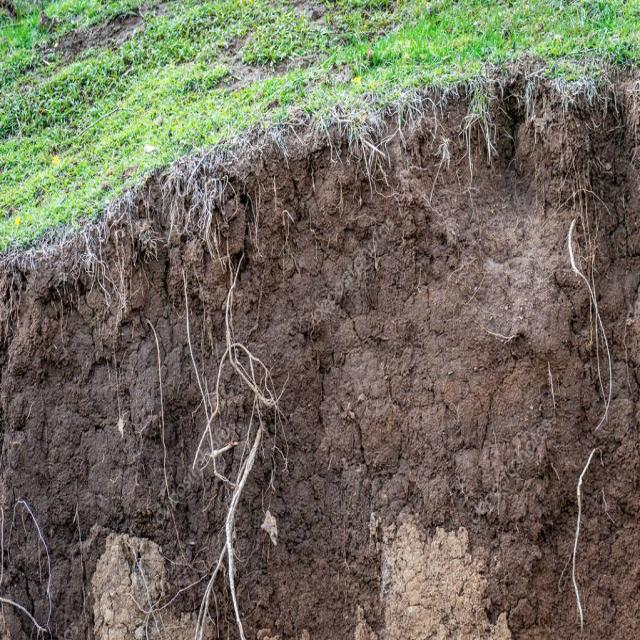suelo_humedo: (339, 293, 504, 451)
